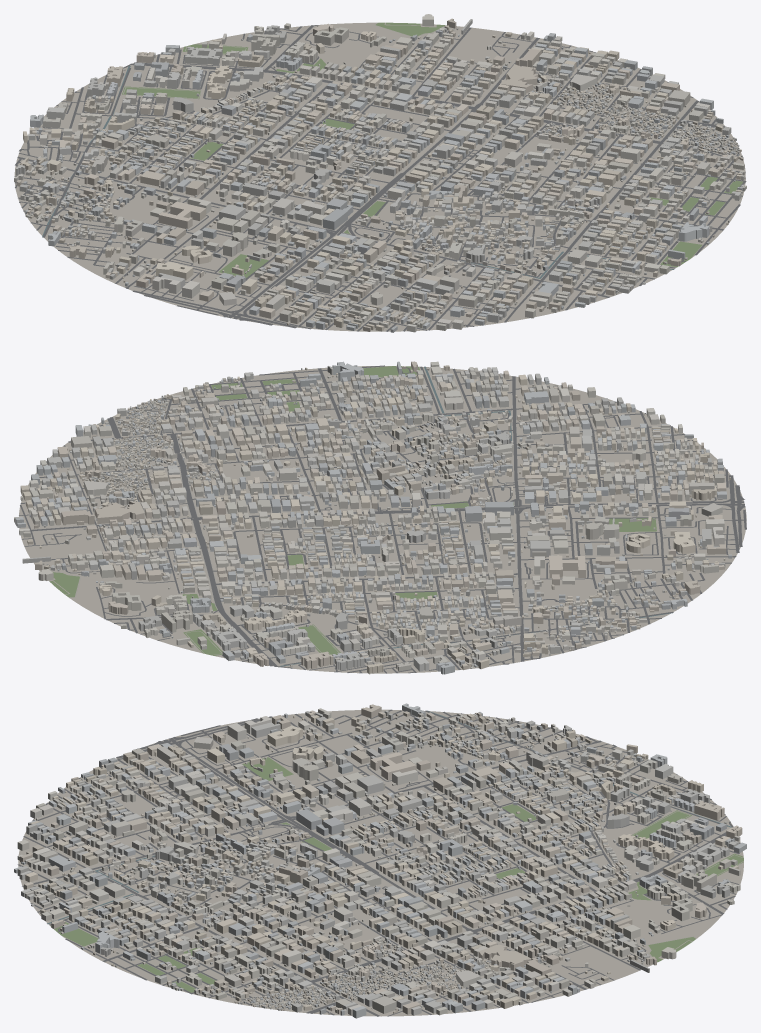
The model's file is context.glb.
3 views of the same model, one above another, from view 1: azimuth 30°, elevation 25°; view 2: azimuth 150°, elevation 25°; view 3: azimuth 270°, elevation 25° (orthographic).
Parts seen in each view (by area): view 1: buildings, ground, roads, green, foot; view 2: buildings, ground, roads, green, foot; view 3: buildings, ground, roads, green, foot.
Part boxes in pixels (x1,y1,x2,y2): buildings: [14, 14, 746, 332]; ground: [14, 22, 745, 331]; roads: [14, 25, 746, 331]; green: [122, 22, 743, 277]; foot: [17, 22, 725, 327]; buildings: [14, 361, 731, 674]; ground: [19, 366, 746, 673]; roads: [19, 365, 746, 673]; green: [49, 366, 656, 655]; foot: [31, 368, 744, 666]; buildings: [14, 703, 746, 1018]; ground: [18, 709, 743, 1016]; roads: [17, 709, 740, 1016]; green: [50, 757, 743, 992]; foot: [22, 716, 743, 1016].
Bounding box in the file's own units: 2022 × 31.84 × 2020.
